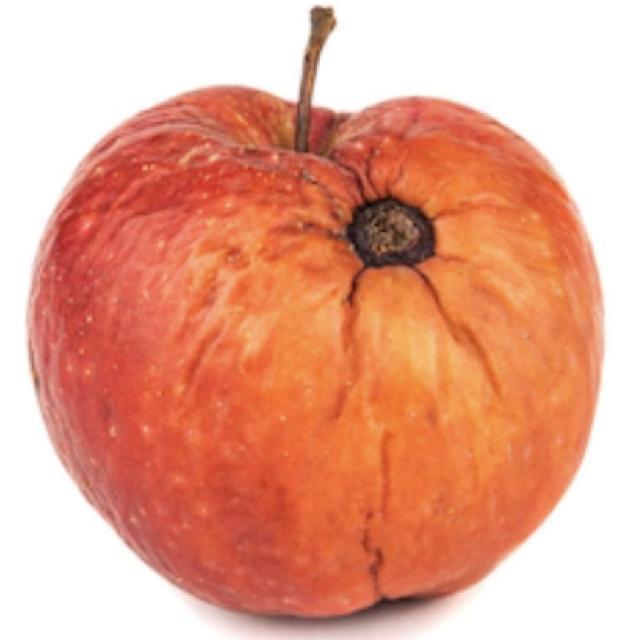Rotten: (46, 70, 572, 595)
